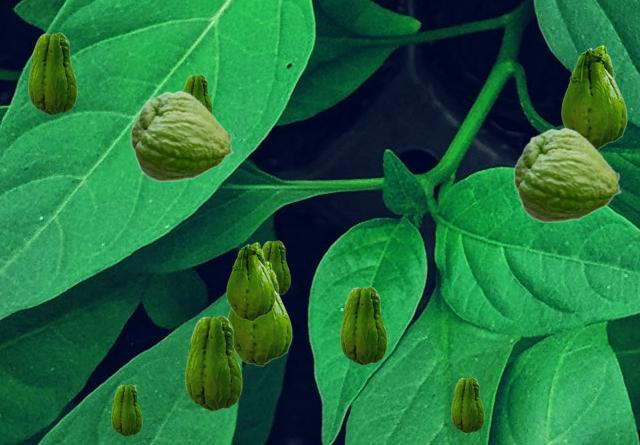sayote: (513, 127, 621, 222), (130, 90, 233, 181), (561, 45, 626, 149), (227, 261, 291, 365), (185, 315, 241, 410), (28, 32, 76, 114), (226, 242, 274, 320), (340, 286, 386, 364), (451, 377, 483, 432), (111, 384, 141, 435), (262, 240, 289, 295), (183, 74, 211, 111)
